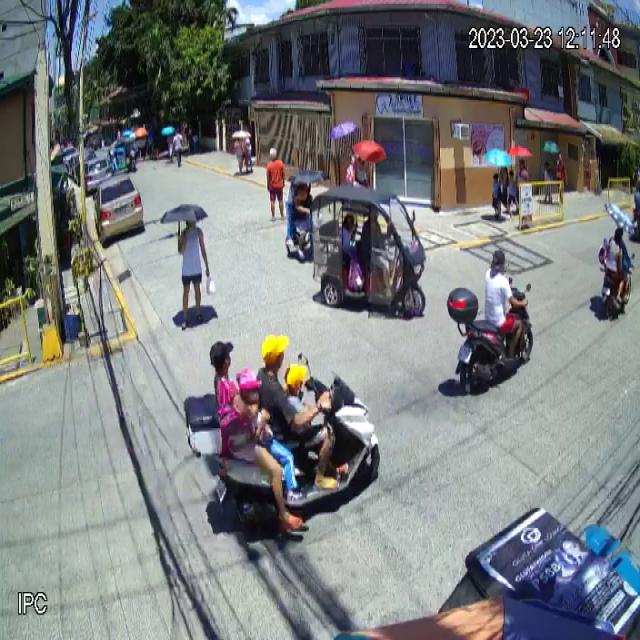Car: (94, 174, 144, 245)
Motorcycle: (185, 352, 380, 537), (446, 278, 534, 395)
